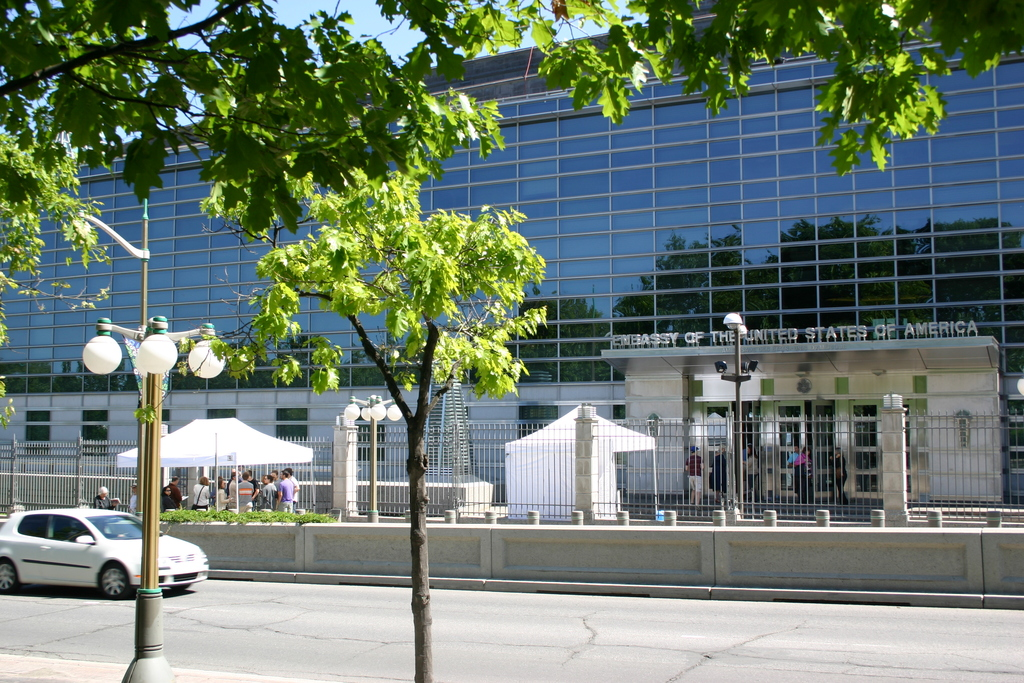Car: (0, 503, 209, 598)
